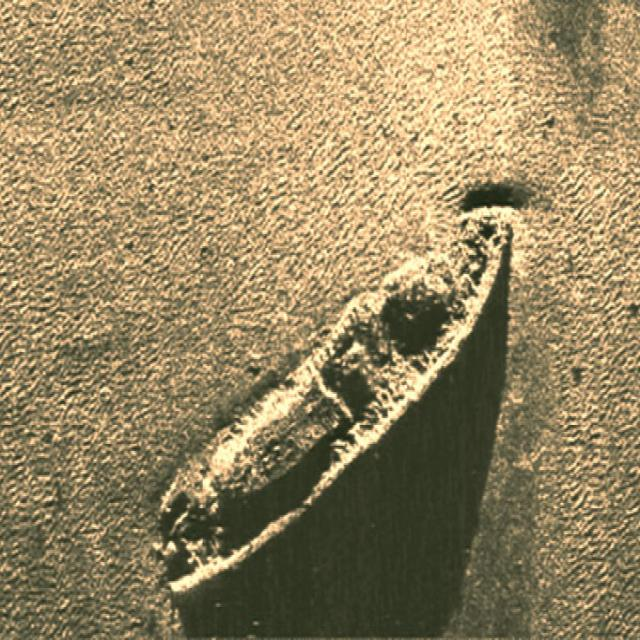ship: (157, 210, 510, 597)
